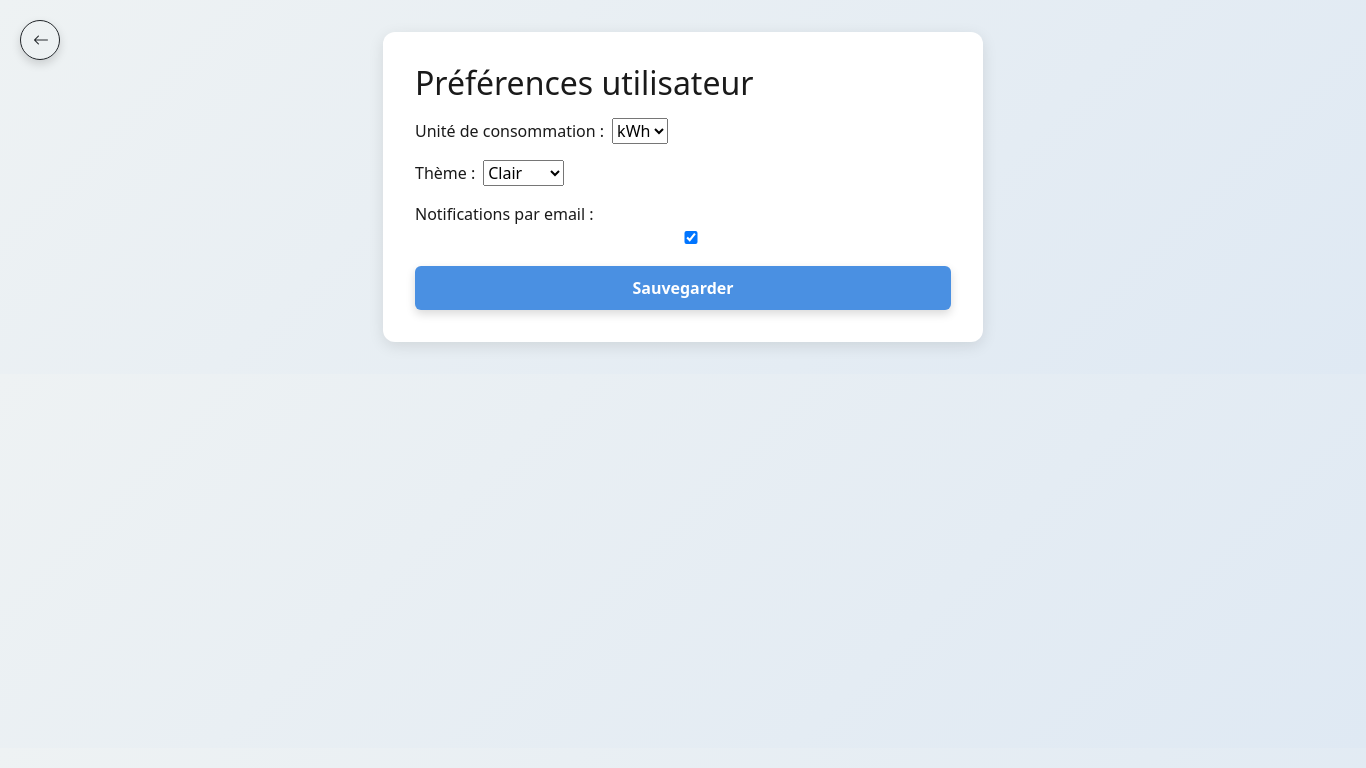
Preferences Component › change et envoie les préférences à l'API
The image size is (1366, 768).
Select "Wh" in the dropdown showing "kWh" at (640, 131), box [612, 118, 668, 144]
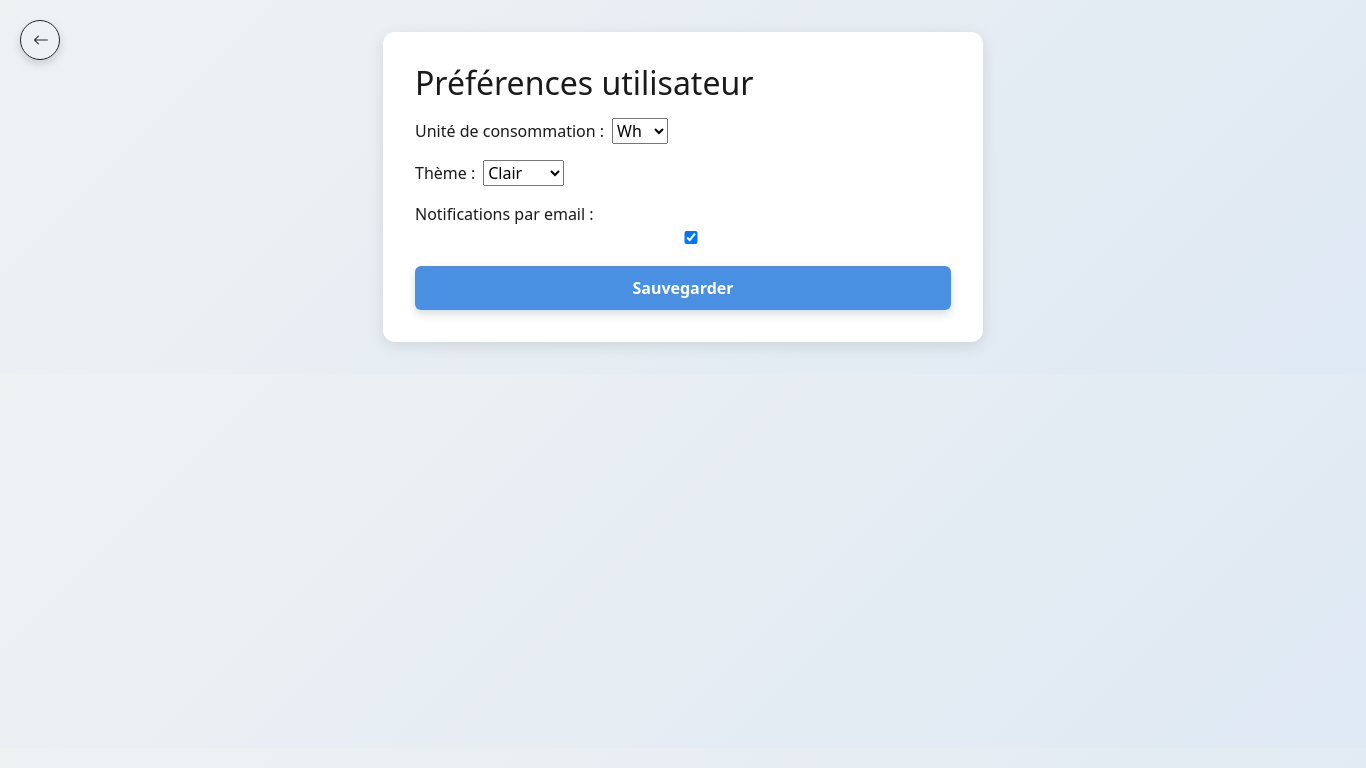
Click the button "Sauvegarder" at (683, 288), box [415, 266, 951, 310]
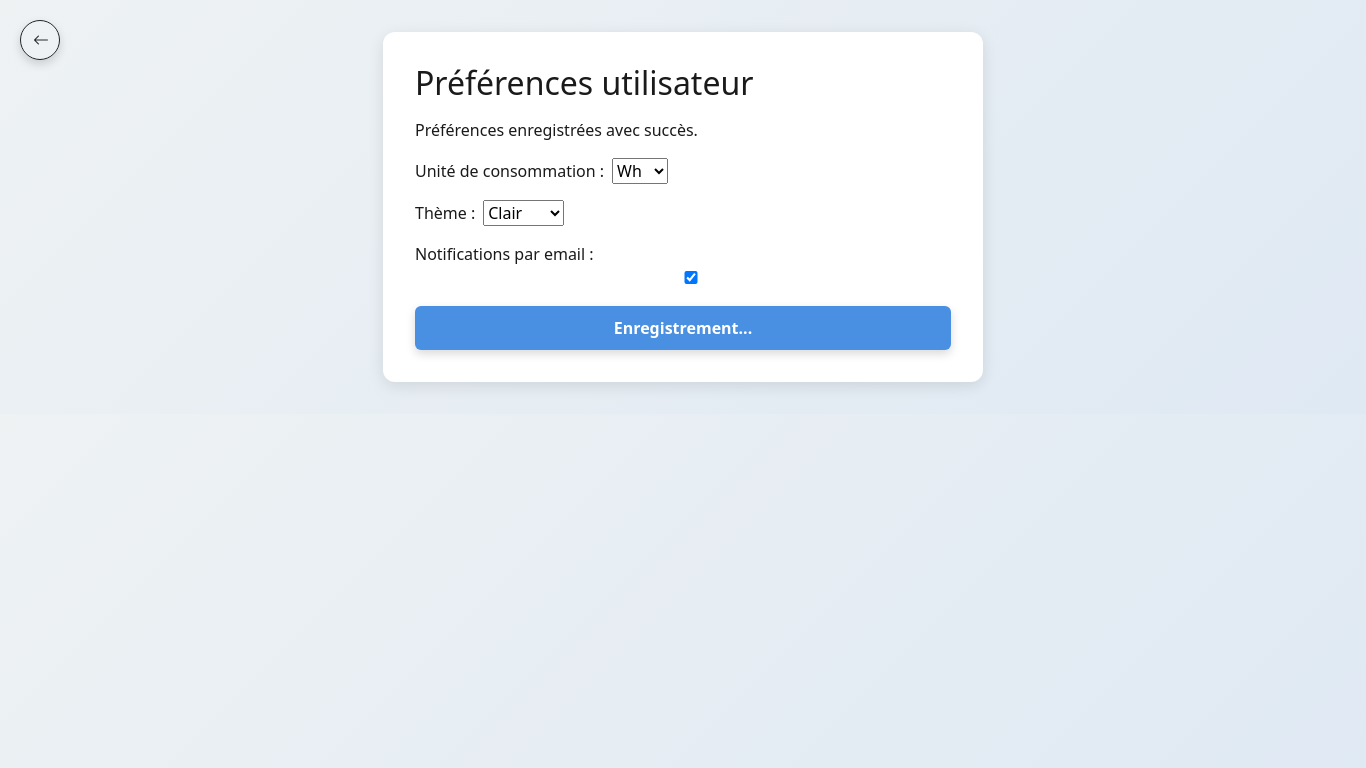
Result: the text "Préférences enregistrées avec succès." is shown at [415, 119, 698, 141]
